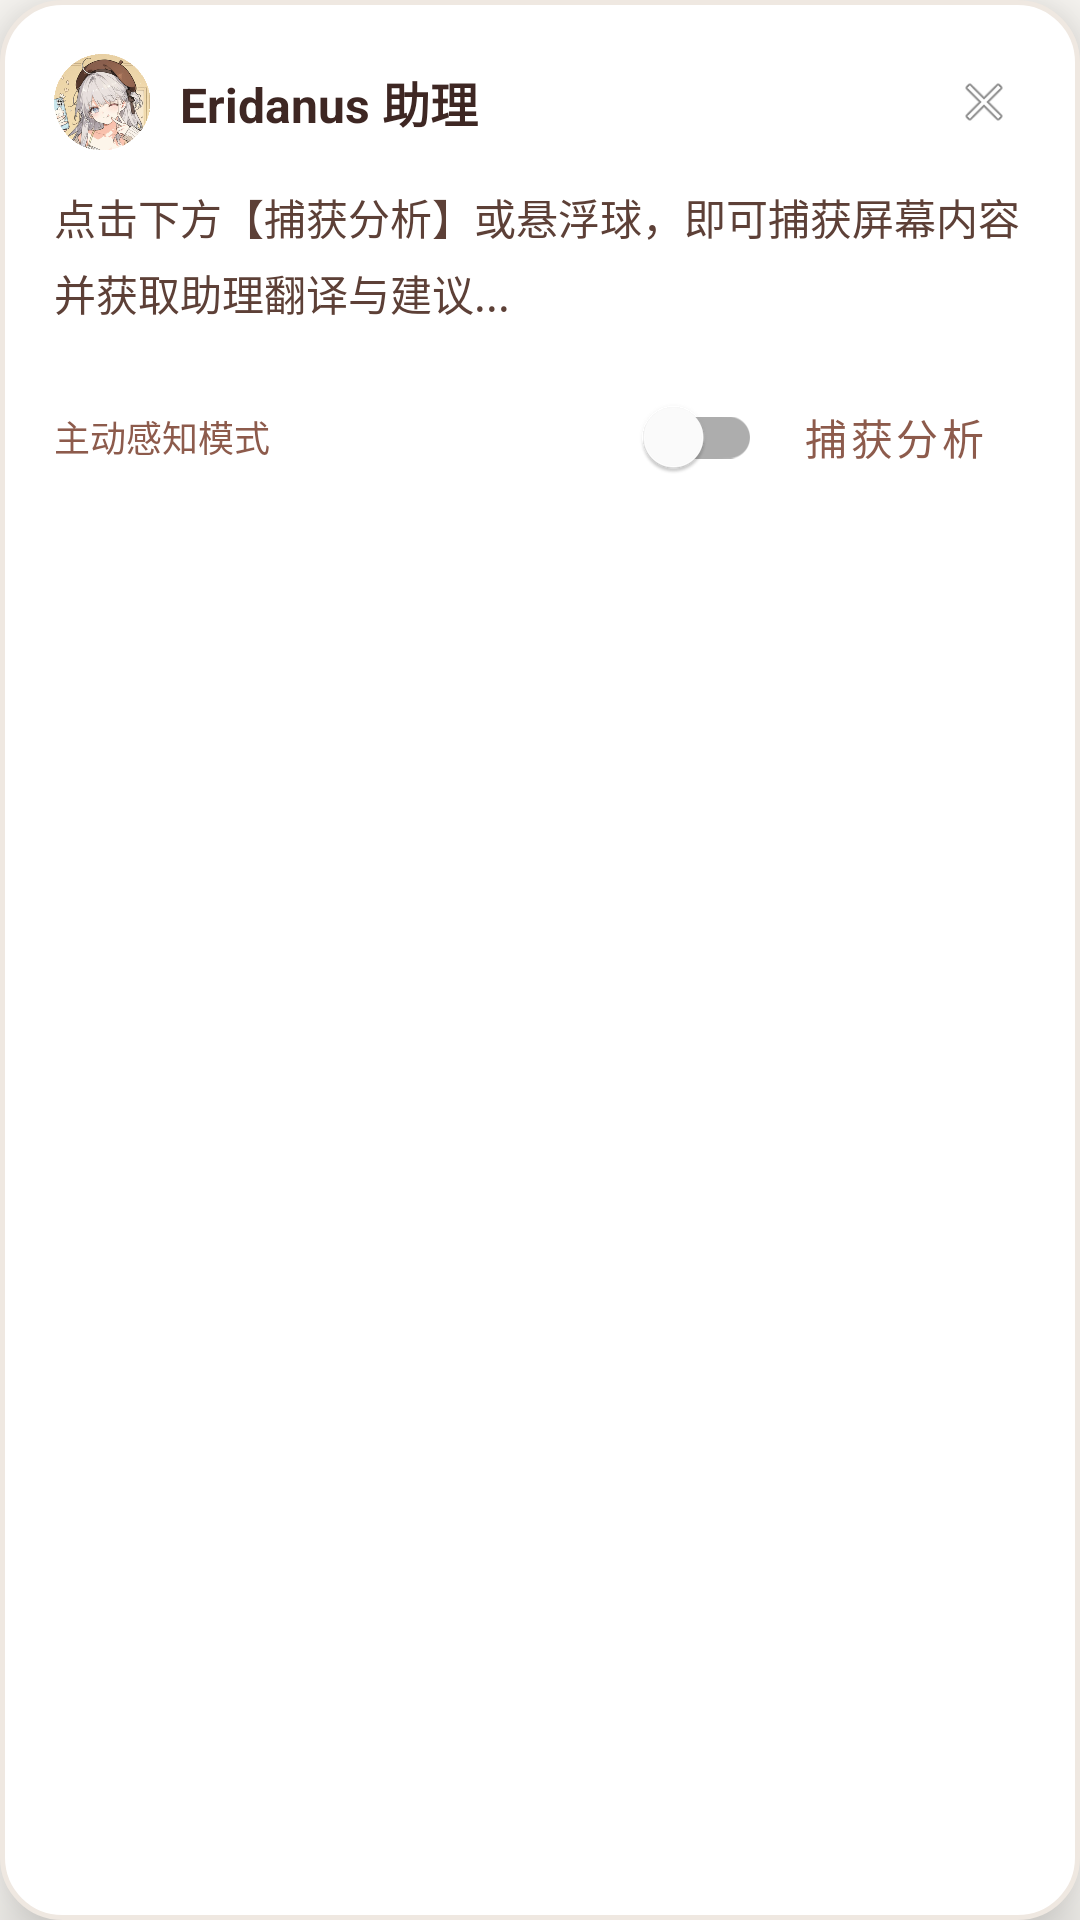

Named icons in this screenshot (1080*1920) and their centers, (x=x, y=y):
close clear cancel: (x=984, y=102)
